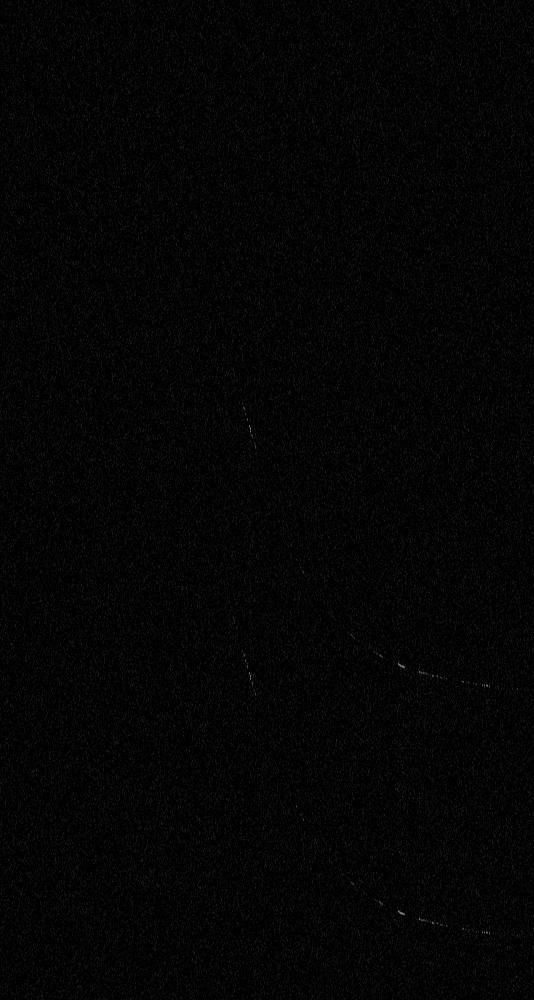signal: (0, 0, 533, 999)
